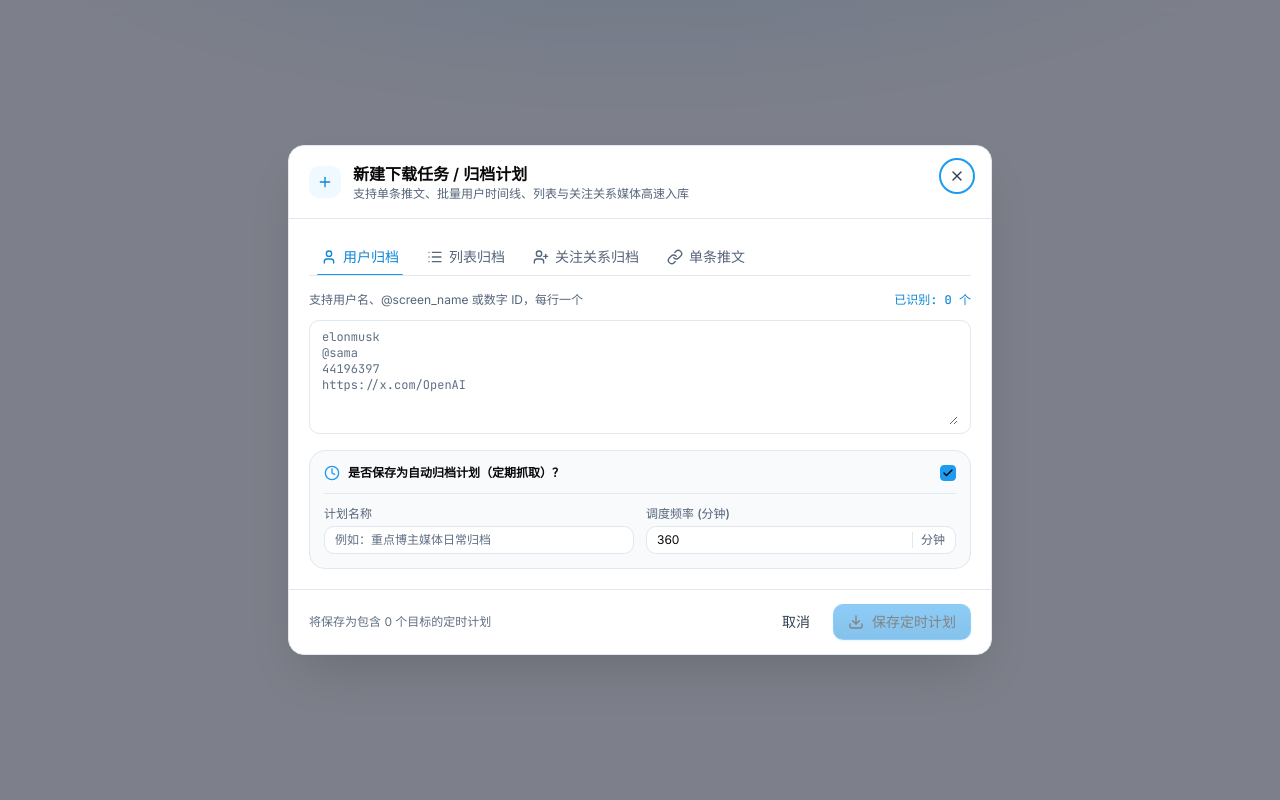
Test: CreateJobModal › drops schedule wording once the single-tweet tab is selected
Check: the button "保存定时计划" is shown, box [833,604,971,640]
Click the tab "单条推文" at (706, 257), box [655,239,757,275]
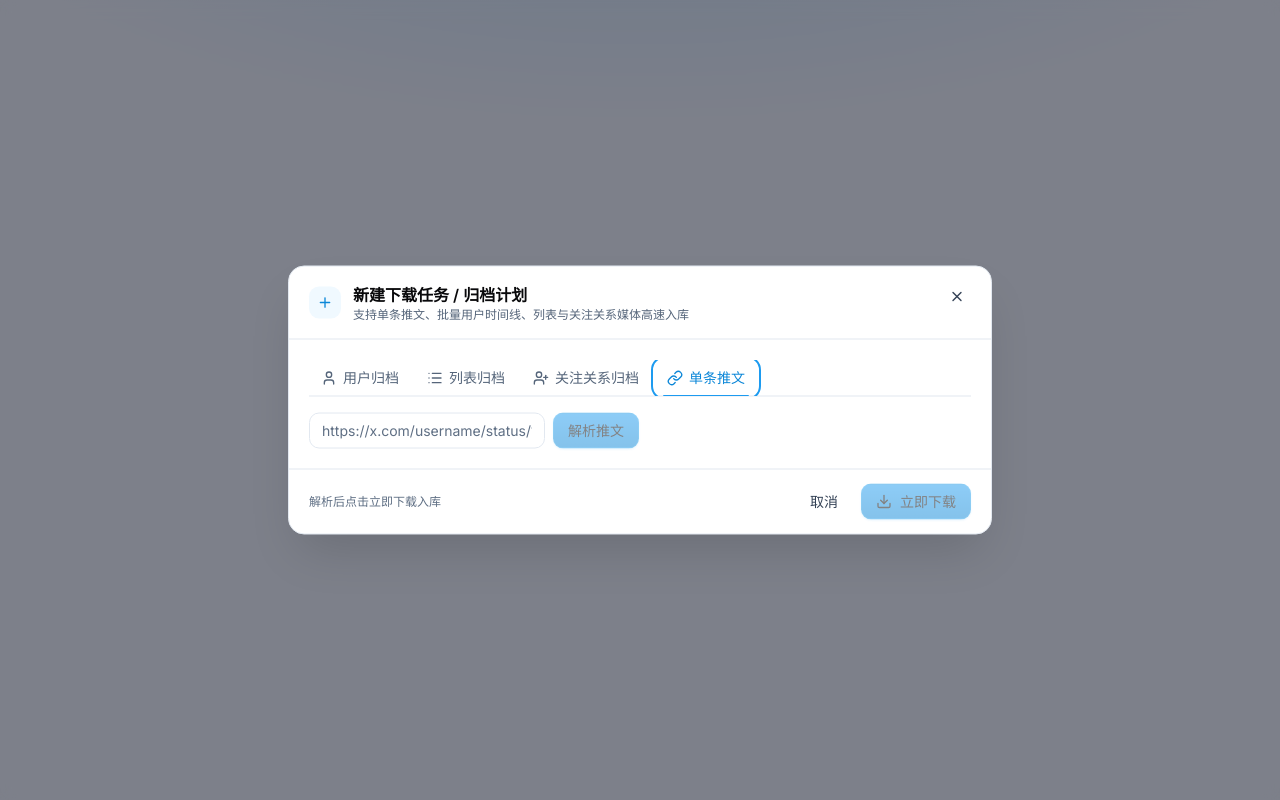
Check: the button "保存定时计划" is gone
Check: the button "立即下载" is shown, box [861,484,971,520]
Check: the text "解析后点击立即下载入库" is shown, box [309,494,441,510]
